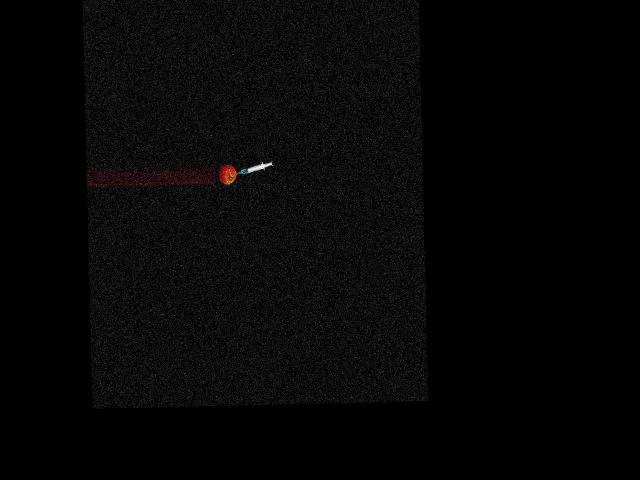tomato: (218, 164, 236, 184)
